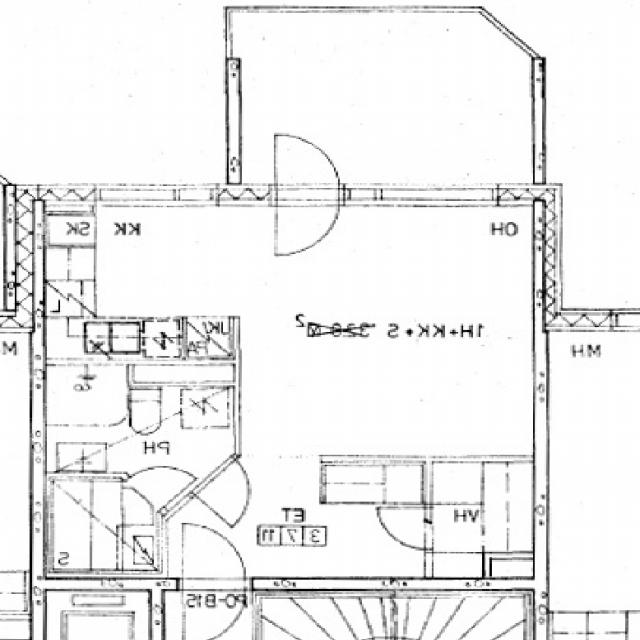door: (191, 456, 277, 530), (275, 184, 339, 261), (275, 130, 339, 206), (127, 448, 199, 511), (183, 523, 246, 590), (183, 577, 246, 640), (376, 507, 433, 550)
